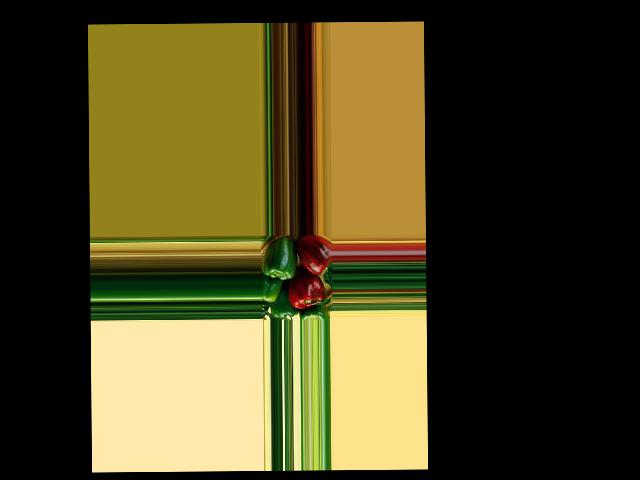bell_pepper: (298, 234, 330, 275)
